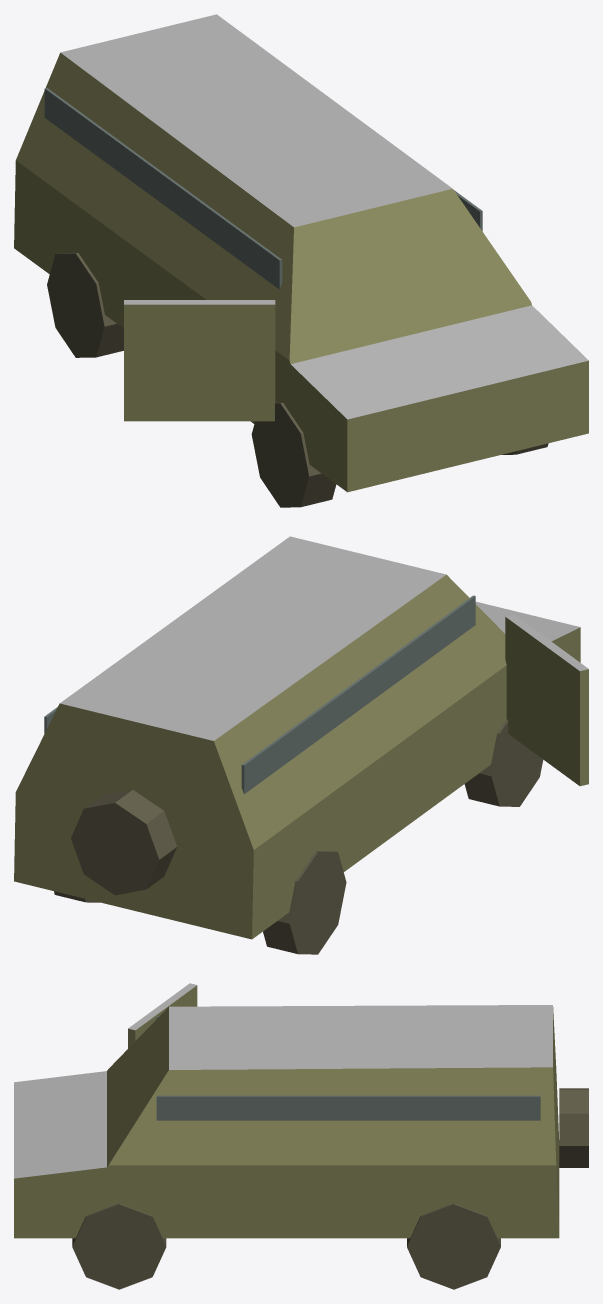
The model's file is SM_CocheCivil_Todoterreno_v1_LOD1.fbx.
3 renders of one model, top to bottom at view 1: azimuth 30°, elevation 25°; view 2: azimuth 150°, elevation 25°; view 3: azimuth 270°, elevation 25°, orthographic. The views are drawn at different scales.
Visible parts, largest first — view 1: SM_coche_civil_v16_LOD1; view 2: SM_coche_civil_v16_LOD1; view 3: SM_coche_civil_v16_LOD1.
Part boxes in pixels (box(x1,y1,x2,y2)): SM_coche_civil_v16_LOD1: box(14, 14, 588, 507); SM_coche_civil_v16_LOD1: box(14, 536, 588, 954); SM_coche_civil_v16_LOD1: box(14, 983, 588, 1289).
Bounding box in the file's own units: 2.74 × 1.82 × 4.64.
